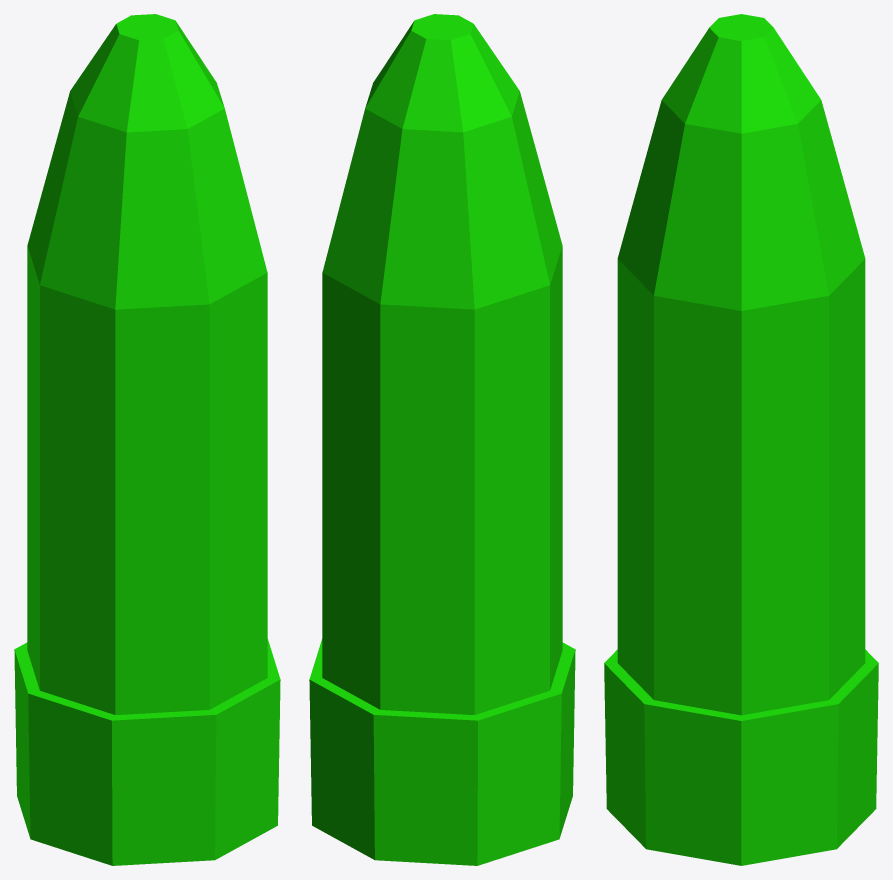
Rendered from PowerUp4.fbx.
The picture shows the model from 3 angles, left to right: view 1: azimuth 30°, elevation 25°; view 2: azimuth 150°, elevation 25°; view 3: azimuth 270°, elevation 25°; orthographic projection.
Visible parts, largest first — view 1: Cylinder001; view 2: Cylinder001; view 3: Cylinder001.
Part boxes in pixels (x1=…): Cylinder001: x1=14, y1=14, x2=280, y2=865; Cylinder001: x1=309, y1=14, x2=575, y2=865; Cylinder001: x1=604, y1=14, x2=878, y2=865.
Size of the model in its own units: 11.08 by 34.79 by 11.08.
